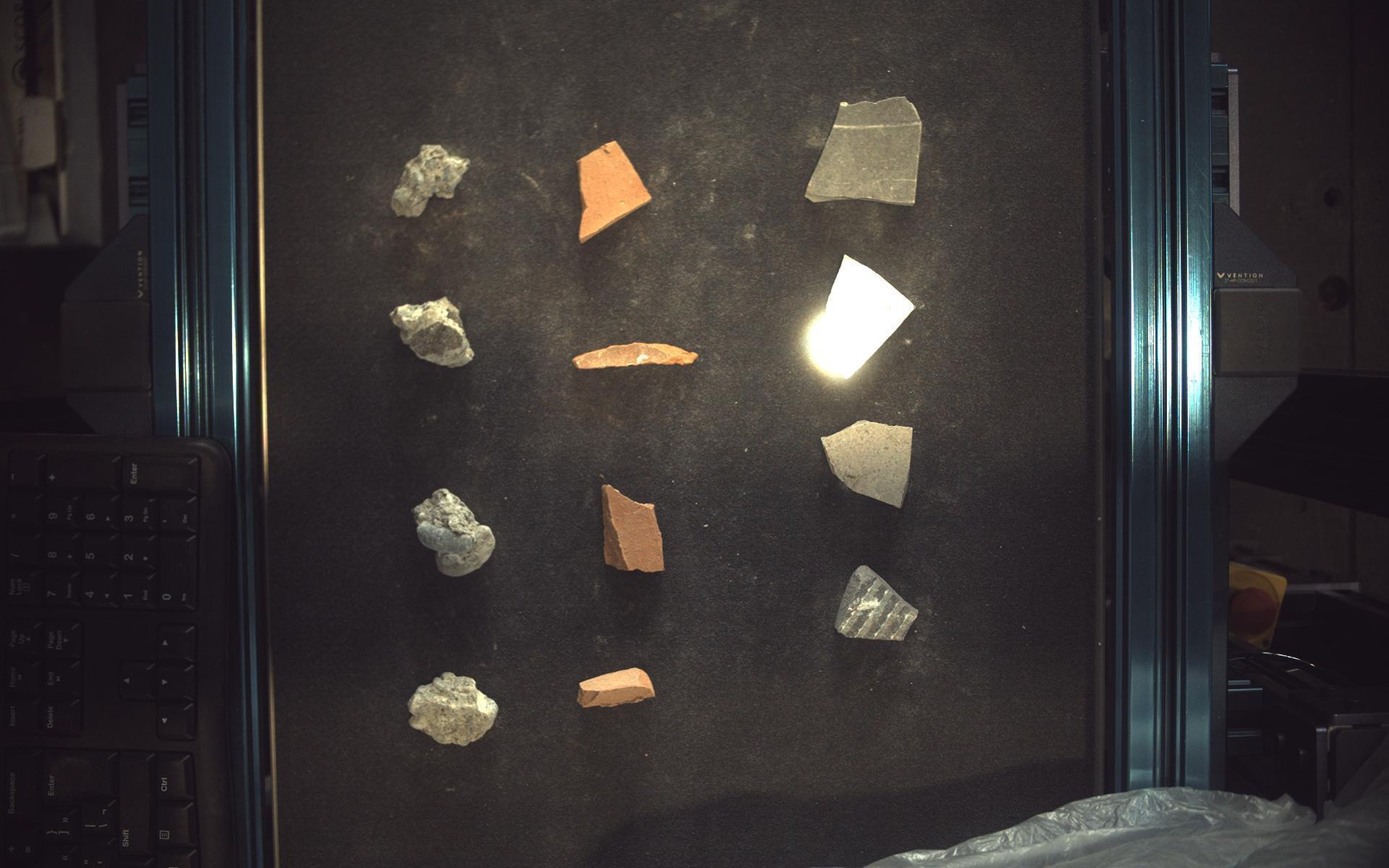brick: (579, 140, 653, 242), (603, 485, 666, 573), (573, 342, 700, 369), (578, 669, 655, 708)
concrete: (412, 488, 496, 577), (409, 673, 498, 747), (390, 297, 474, 367), (391, 143, 470, 216)
tile: (808, 255, 917, 378), (807, 95, 924, 204), (823, 420, 914, 508), (836, 567, 920, 642)
